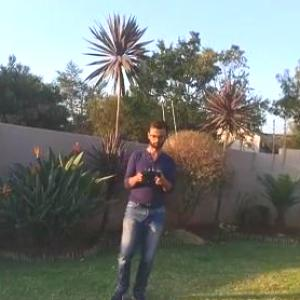follow: (107, 115, 180, 299)
